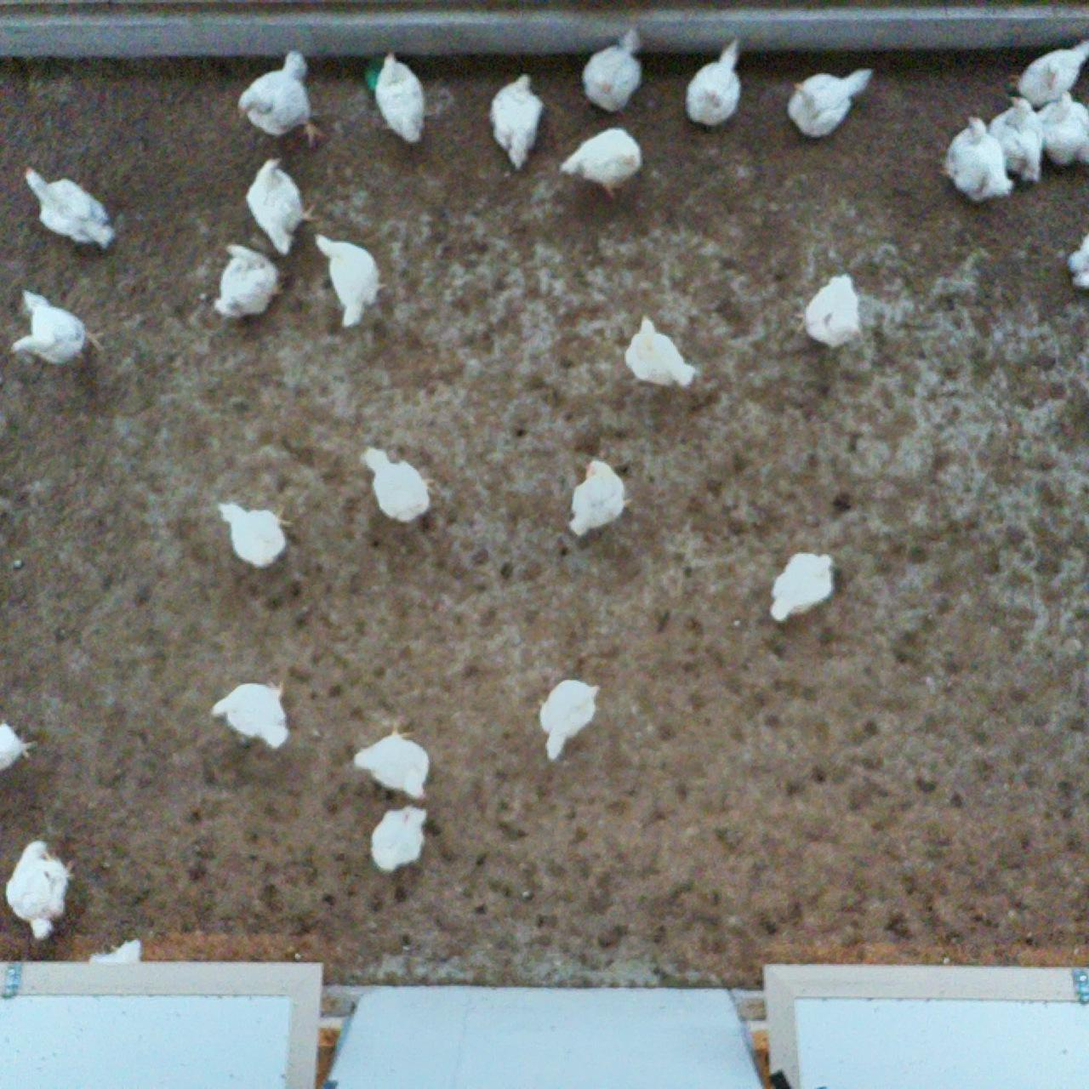chicken: (231, 45, 328, 150), (21, 162, 119, 255), (5, 285, 104, 376), (4, 833, 79, 941), (243, 152, 319, 256), (313, 230, 390, 332), (780, 62, 879, 141), (556, 124, 647, 204), (350, 719, 437, 802), (936, 114, 1014, 203), (207, 239, 289, 322), (209, 676, 295, 753), (578, 27, 650, 117), (358, 444, 436, 527), (487, 70, 549, 174), (681, 36, 748, 132), (562, 457, 637, 540), (790, 272, 866, 353), (216, 496, 296, 571), (535, 675, 603, 763), (620, 314, 697, 391), (766, 547, 841, 622), (372, 47, 429, 145), (1012, 37, 1089, 105), (993, 94, 1049, 186), (369, 802, 432, 878), (1035, 89, 1089, 169), (0, 716, 40, 779)
